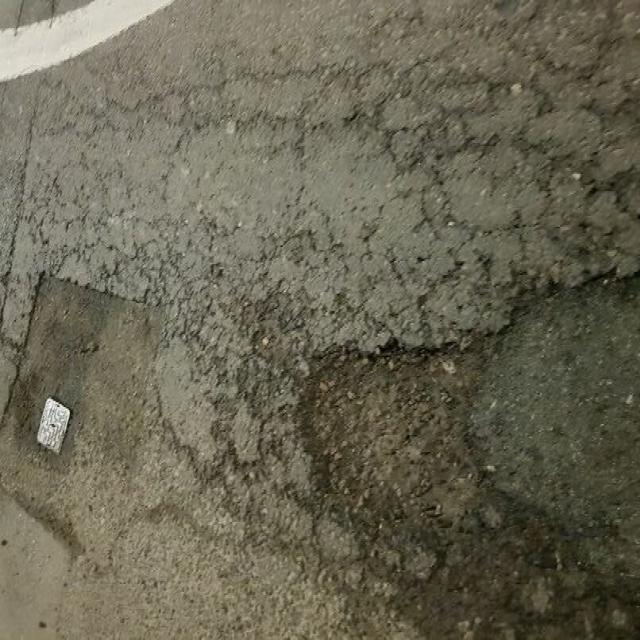pothole: (291, 322, 488, 570)
